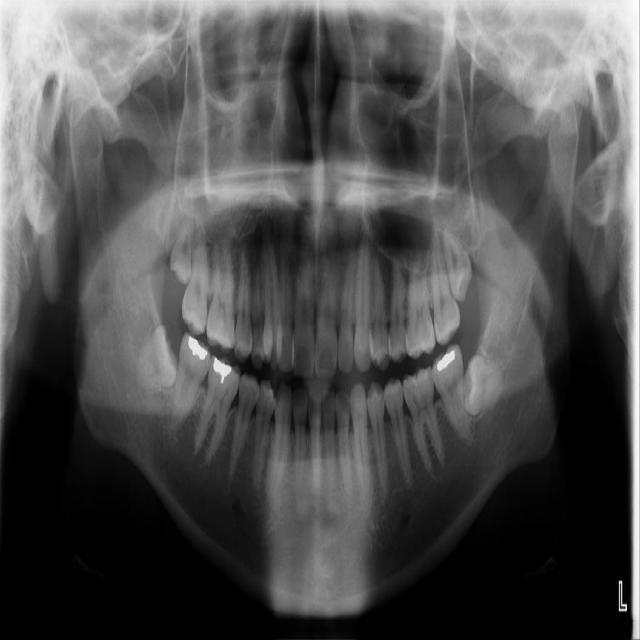Filling: (435, 348, 457, 373), (185, 337, 210, 359), (211, 357, 233, 379)
impacted tooth: (465, 356, 510, 414), (135, 326, 176, 386), (442, 230, 475, 300), (170, 211, 191, 285)
